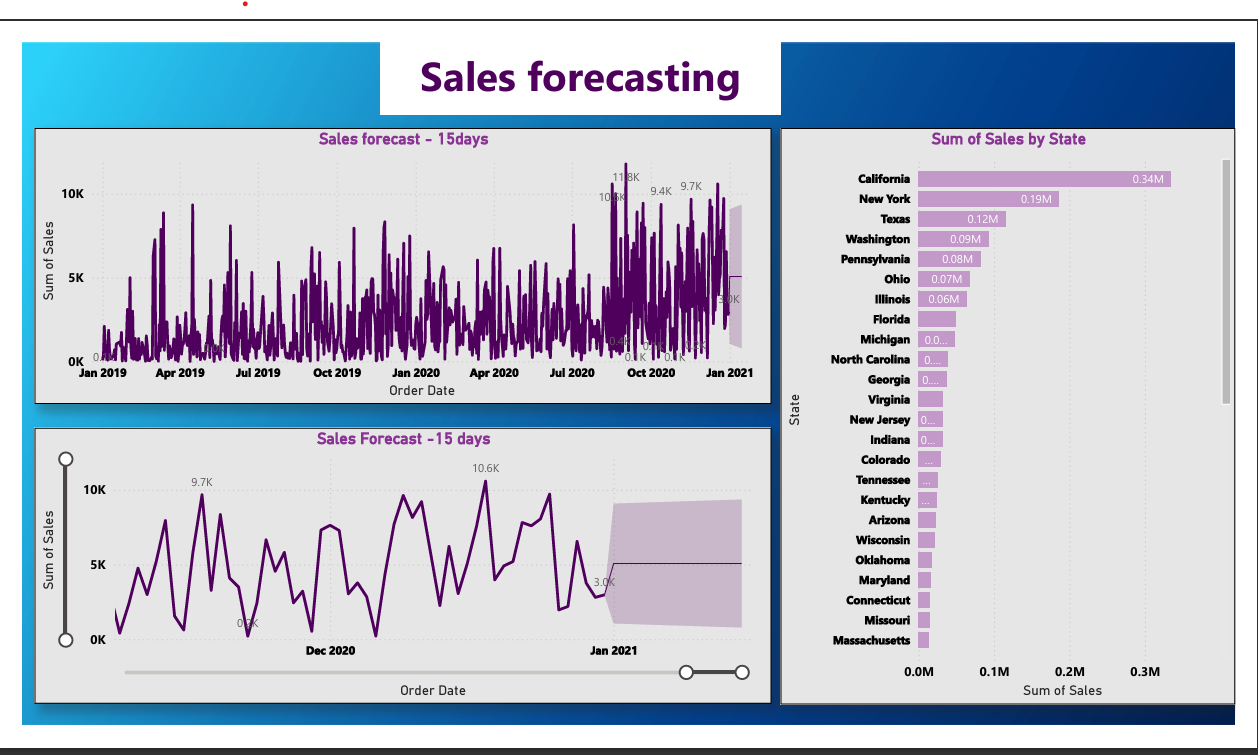

This screenshot's page, from the dashboard's own definition file:
{"tool":"powerbi","page":{"name":"FORECASTING","canvas":[1280,720],"ordinal":2},"visuals":[{"type":"lineChart","title":"Sales forecast - 15days","fields":{"Y":["Sum(Sheet1.Sales)"],"Category":["Sheet1.Order Date"]},"box":[12.5,90,777.5,291.2],"z":0},{"type":"lineChart","title":"Sales Forecast -15 days","fields":{"Y":["Sum(Sheet1.Sales)"],"Category":["Sheet1.Order Date"]},"box":[12.5,406.2,777.5,291.2],"z":1000},{"type":"clusteredBarChart","fields":{"Category":["Sheet1.State"],"Y":["Sum(Sheet1.Sales)"]},"box":[800,90,480,607.5],"z":2000},{"type":"textbox","box":[377.5,0,422.5,76.2],"z":3000}]}

Visuals, with their boxes on the page's 1280x720 design canvas (x1, y1, x2, y2). These are canvas units, not pixel positions in the 1258x755 screenshot, which may show the page scaled, cropped or inside an application window:
"Sales forecast - 15days" lineChart: 12/90/790/381
"Sales Forecast -15 days" lineChart: 12/406/790/697
clusteredBarChart - Sheet1.State x Sum(Sheet1.Sales): 800/90/1280/698
textbox: 378/0/800/76
